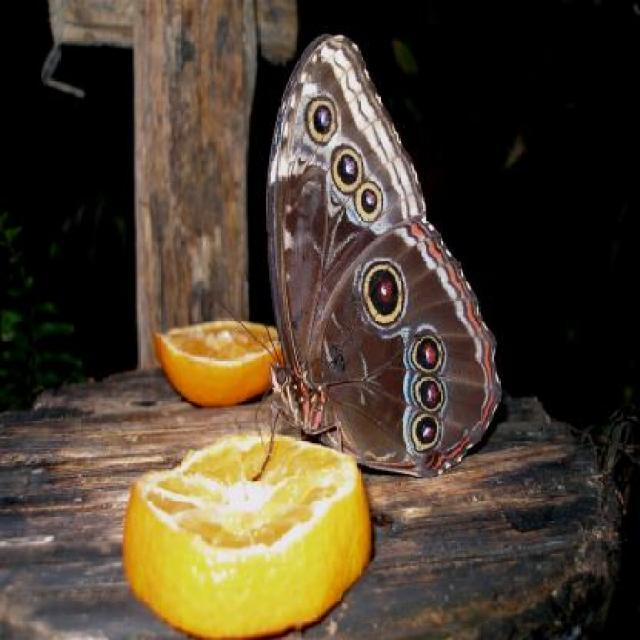Orange: (130, 430, 378, 624), (154, 322, 280, 404)
